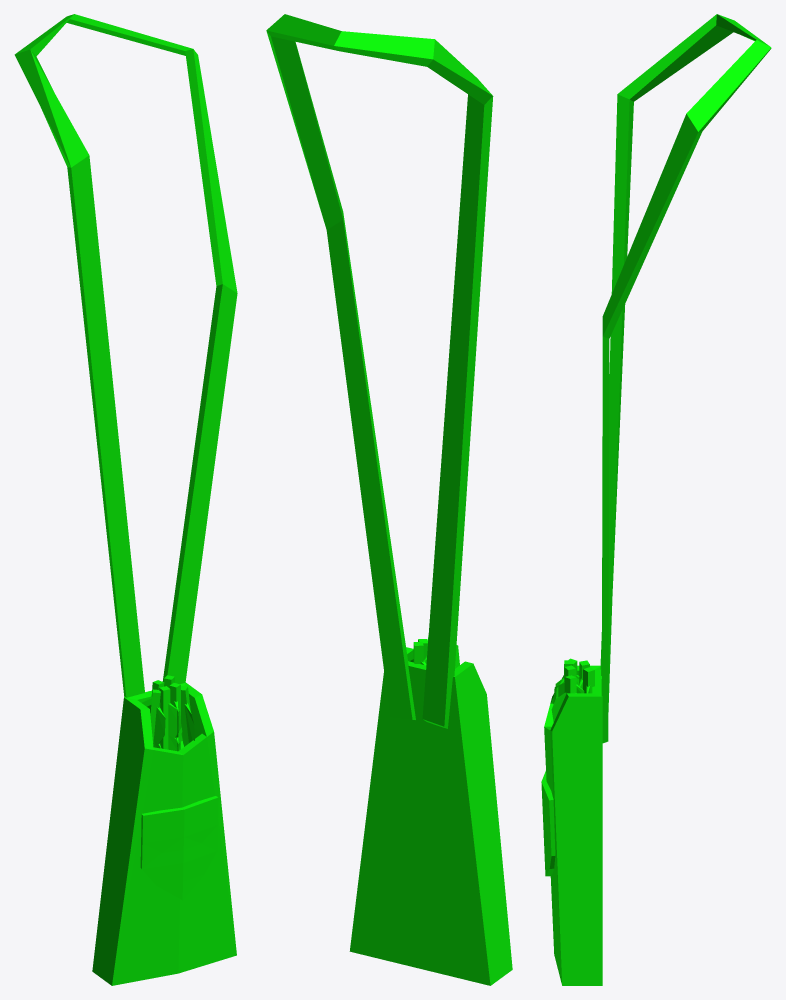
File: SM_Quiver_Bolt_Full_Color_B_Placed_Fantasy.fbx
3 views of the same model, side by side, from view 1: azimuth 30°, elevation 25°; view 2: azimuth 150°, elevation 25°; view 3: azimuth 270°, elevation 25° (orthographic). The views are drawn at different scales.
Parts seen in each view (by area): view 1: quiver-bolt-full-color-b-placed-fantasy; view 2: quiver-bolt-full-color-b-placed-fantasy; view 3: quiver-bolt-full-color-b-placed-fantasy.
Part boxes in pixels (bbox=[...]): quiver-bolt-full-color-b-placed-fantasy: bbox=[14, 14, 237, 985]; quiver-bolt-full-color-b-placed-fantasy: bbox=[266, 14, 512, 985]; quiver-bolt-full-color-b-placed-fantasy: bbox=[541, 14, 771, 985].
Bounding box in the file's own units: 0.1964 × 1.01 × 0.2298.
